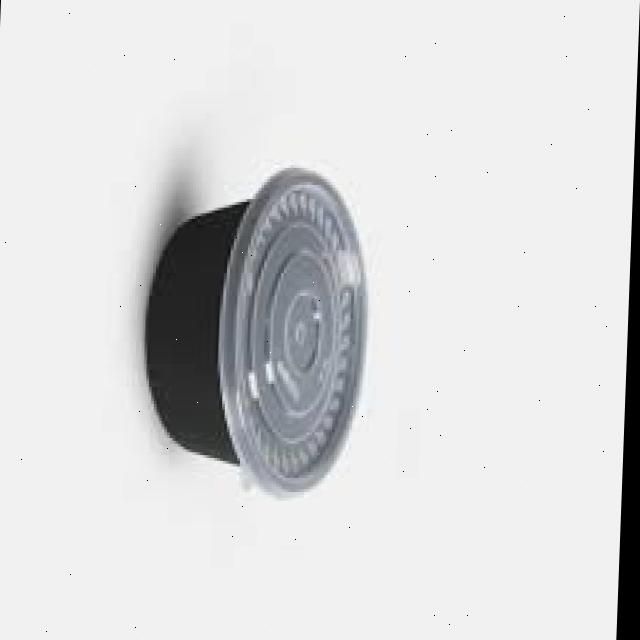disposable: (114, 160, 403, 529)
